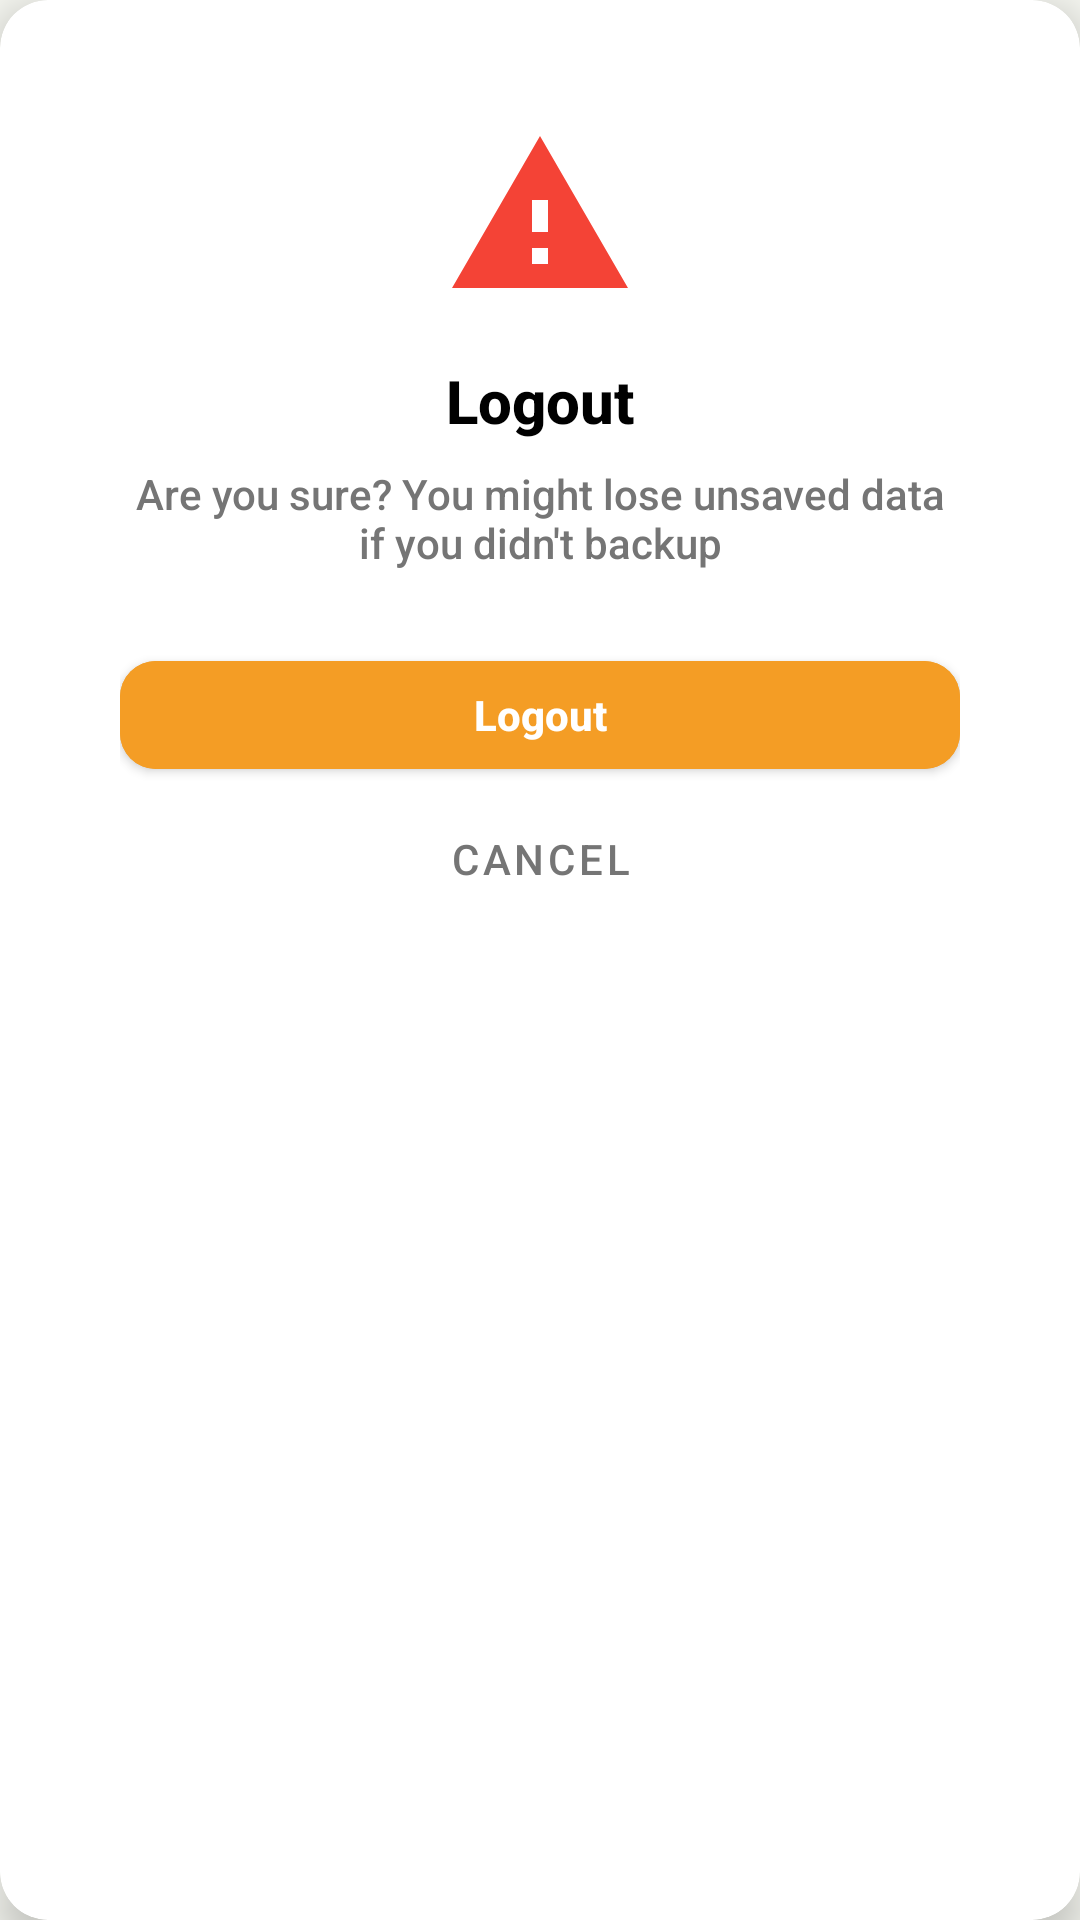

Icon bounding boxes for this 1080w x 1920h phone screenshot, format (x1, y1, x2, y2):
warning amber: (452, 136, 628, 288)
